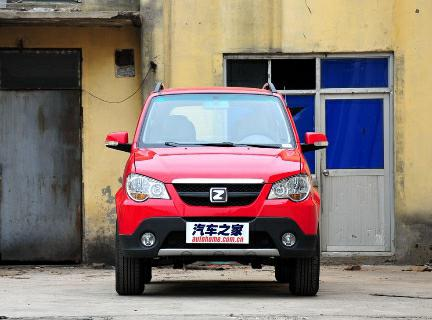众泰-5008: (106, 82, 336, 300)
